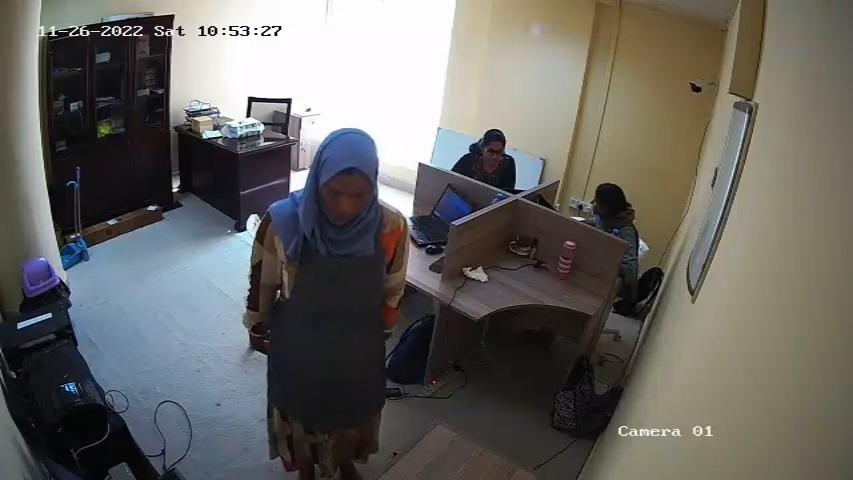apron: (270, 233, 393, 422)
